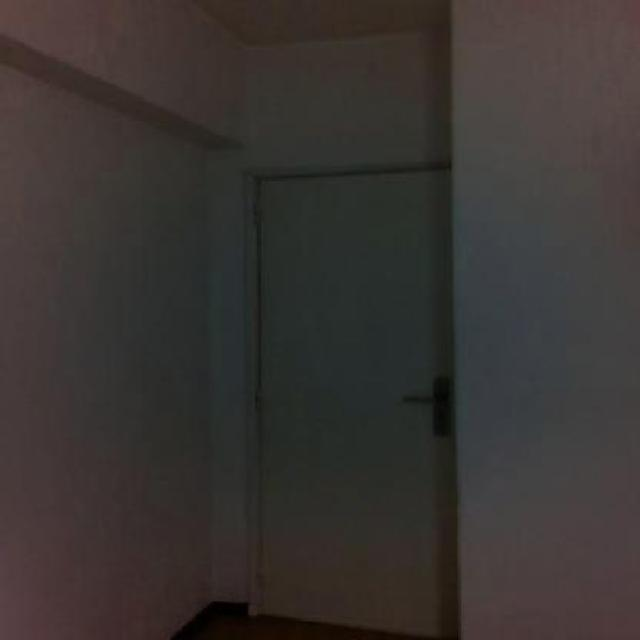door: (248, 163, 457, 639)
